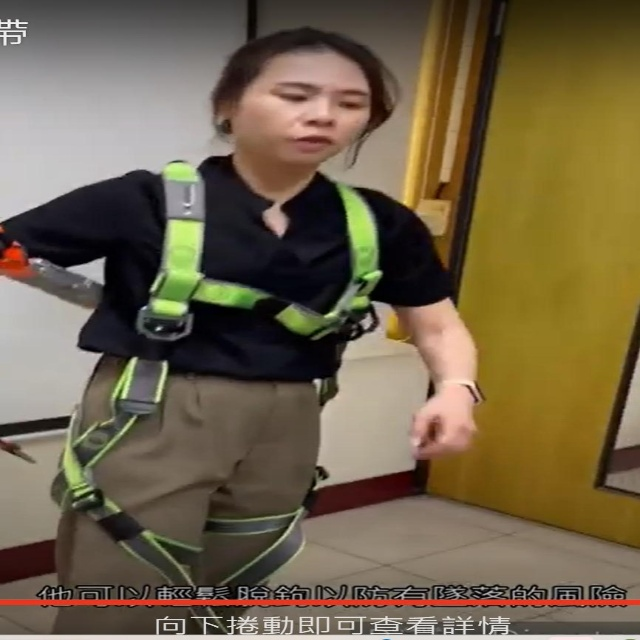Arnes_seguridad: (46, 157, 391, 621)
